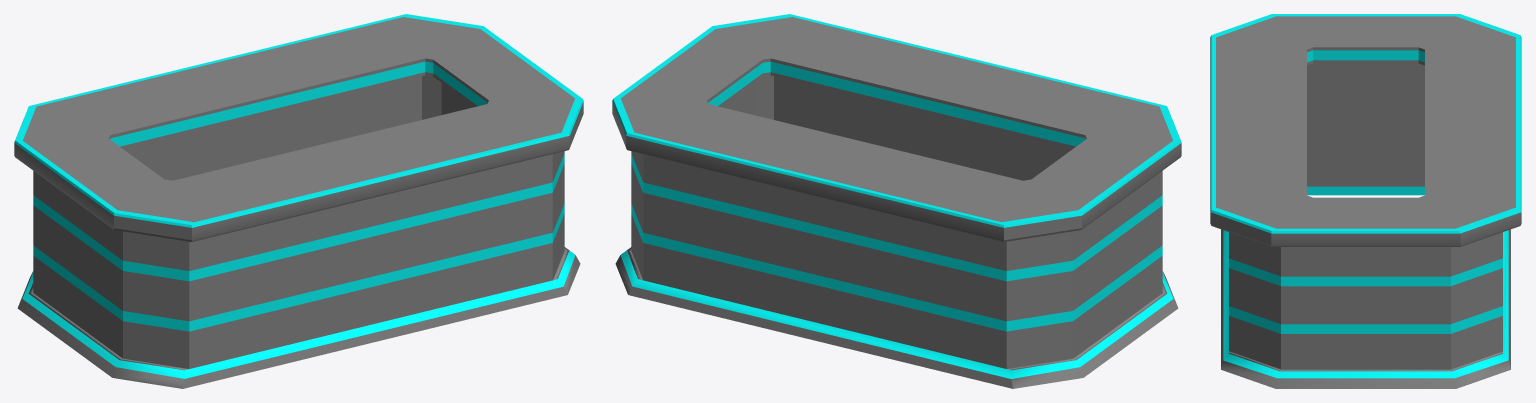
The model's file is tableCoffee.glb.
3 views of the same model, side by side, from view 1: azimuth 30°, elevation 25°; view 2: azimuth 150°, elevation 25°; view 3: azimuth 270°, elevation 25° (orthographic). The views are drawn at different scales.
Parts seen in each view (by area): view 1: pasted__pCube3_Tables___Chairs_All_4_Colours16:pasted__blinn; view 2: pasted__pCube3_Tables___Chairs_All_4_Colours16:pasted__blinn; view 3: pasted__pCube3_Tables___Chairs_All_4_Colours16:pasted__blinn.
Part boxes in pixels (x1,y1,x2,y2): pasted__pCube3_Tables___Chairs_All_4_Colours16:pasted__blinn: [14, 14, 583, 388]; pasted__pCube3_Tables___Chairs_All_4_Colours16:pasted__blinn: [612, 14, 1181, 388]; pasted__pCube3_Tables___Chairs_All_4_Colours16:pasted__blinn: [1210, 14, 1521, 388].
Size of the model in its own units: 1.53 by 0.5181 by 0.9245.
